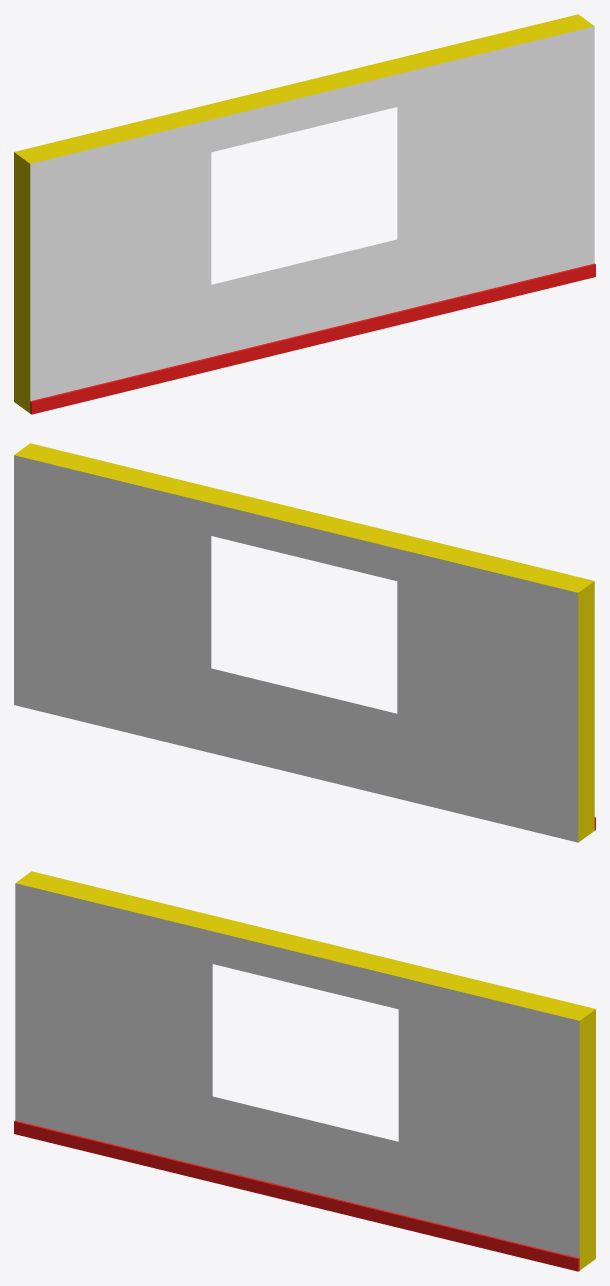
File: MurFenetre.fbx
The picture shows the model from 3 angles, top to bottom: view 1: azimuth 30°, elevation 25°; view 2: azimuth 150°, elevation 25°; view 3: azimuth 330°, elevation 25°; orthographic projection.
Parts seen in each view (by area): view 1: MurFenetre; view 2: MurFenetre; view 3: MurFenetre.
Part boxes in pixels (x1,y1,x2,y2): MurFenetre: [14, 14, 595, 414]; MurFenetre: [14, 443, 595, 842]; MurFenetre: [14, 871, 595, 1271].
Bounding box in the file's own units: 612 × 33.02 × 259.
